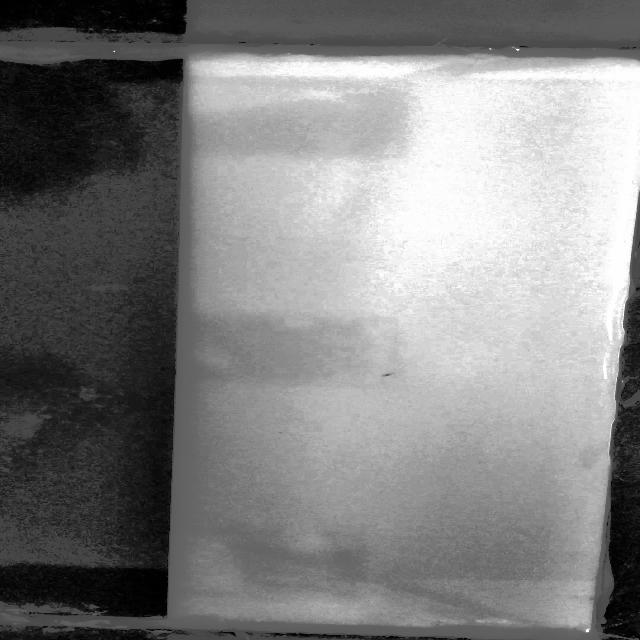shrimp: (376, 369, 403, 380)
